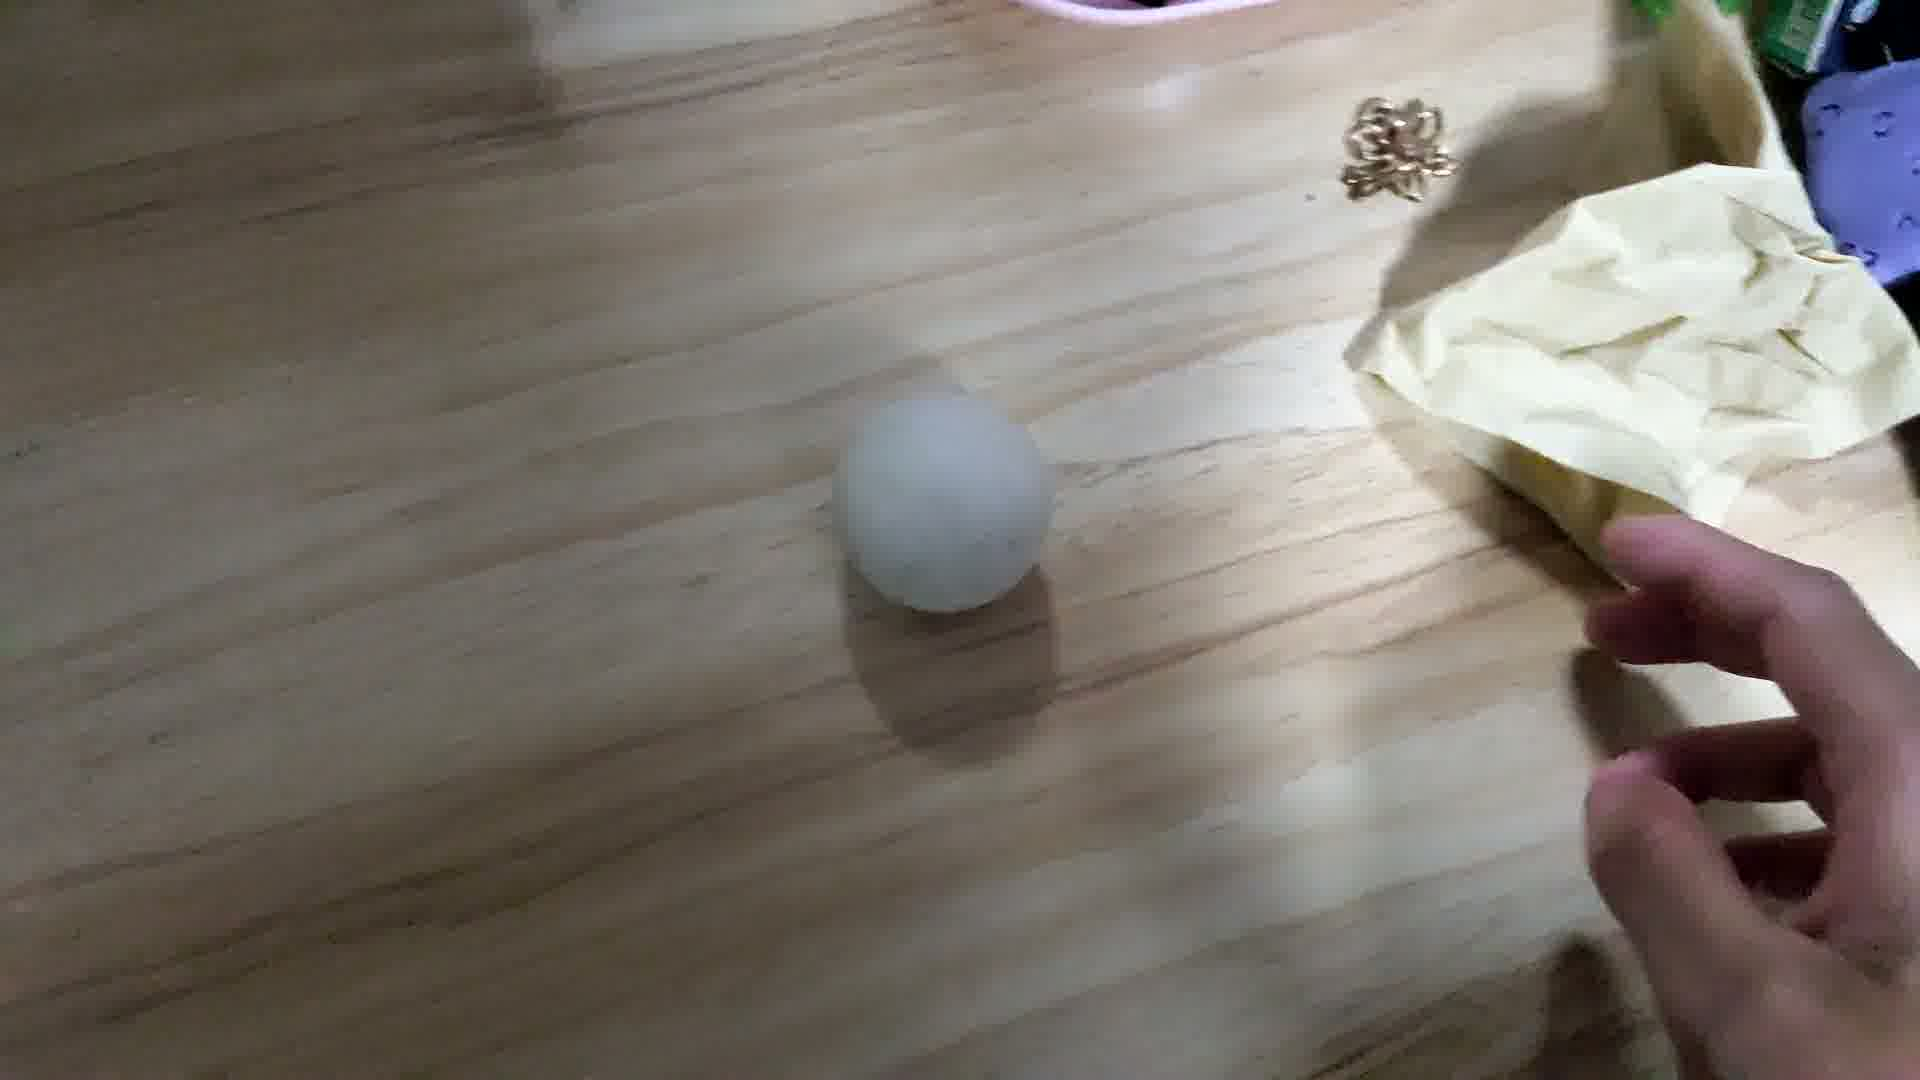Ball: (837, 392, 1051, 613)
